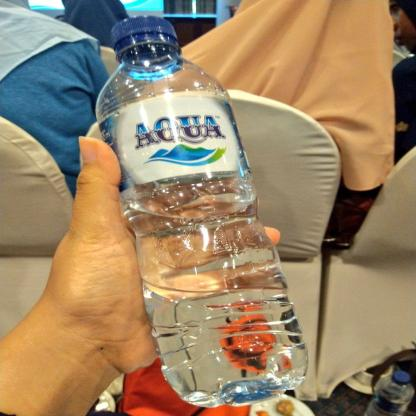plastic_bottles: (94, 16, 307, 406)
